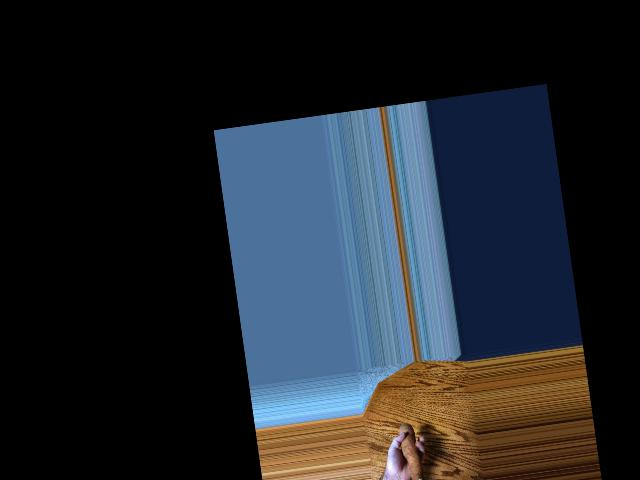sweet_potato: (396, 425, 425, 480)
